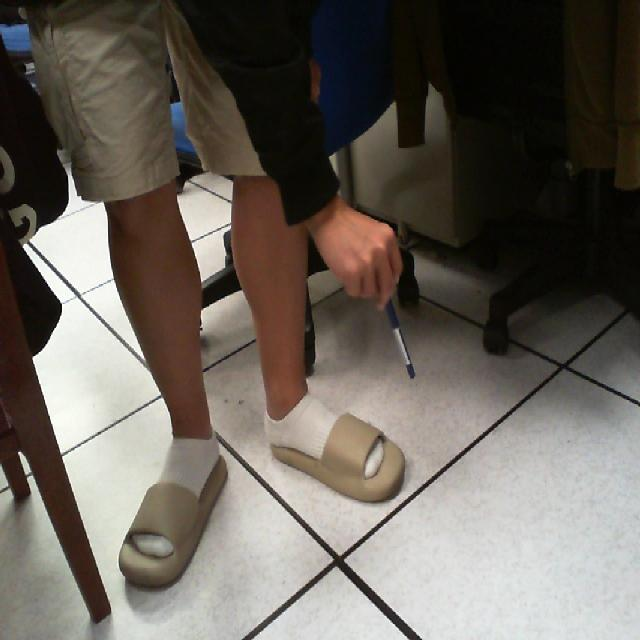Pen: (376, 277, 430, 410)
